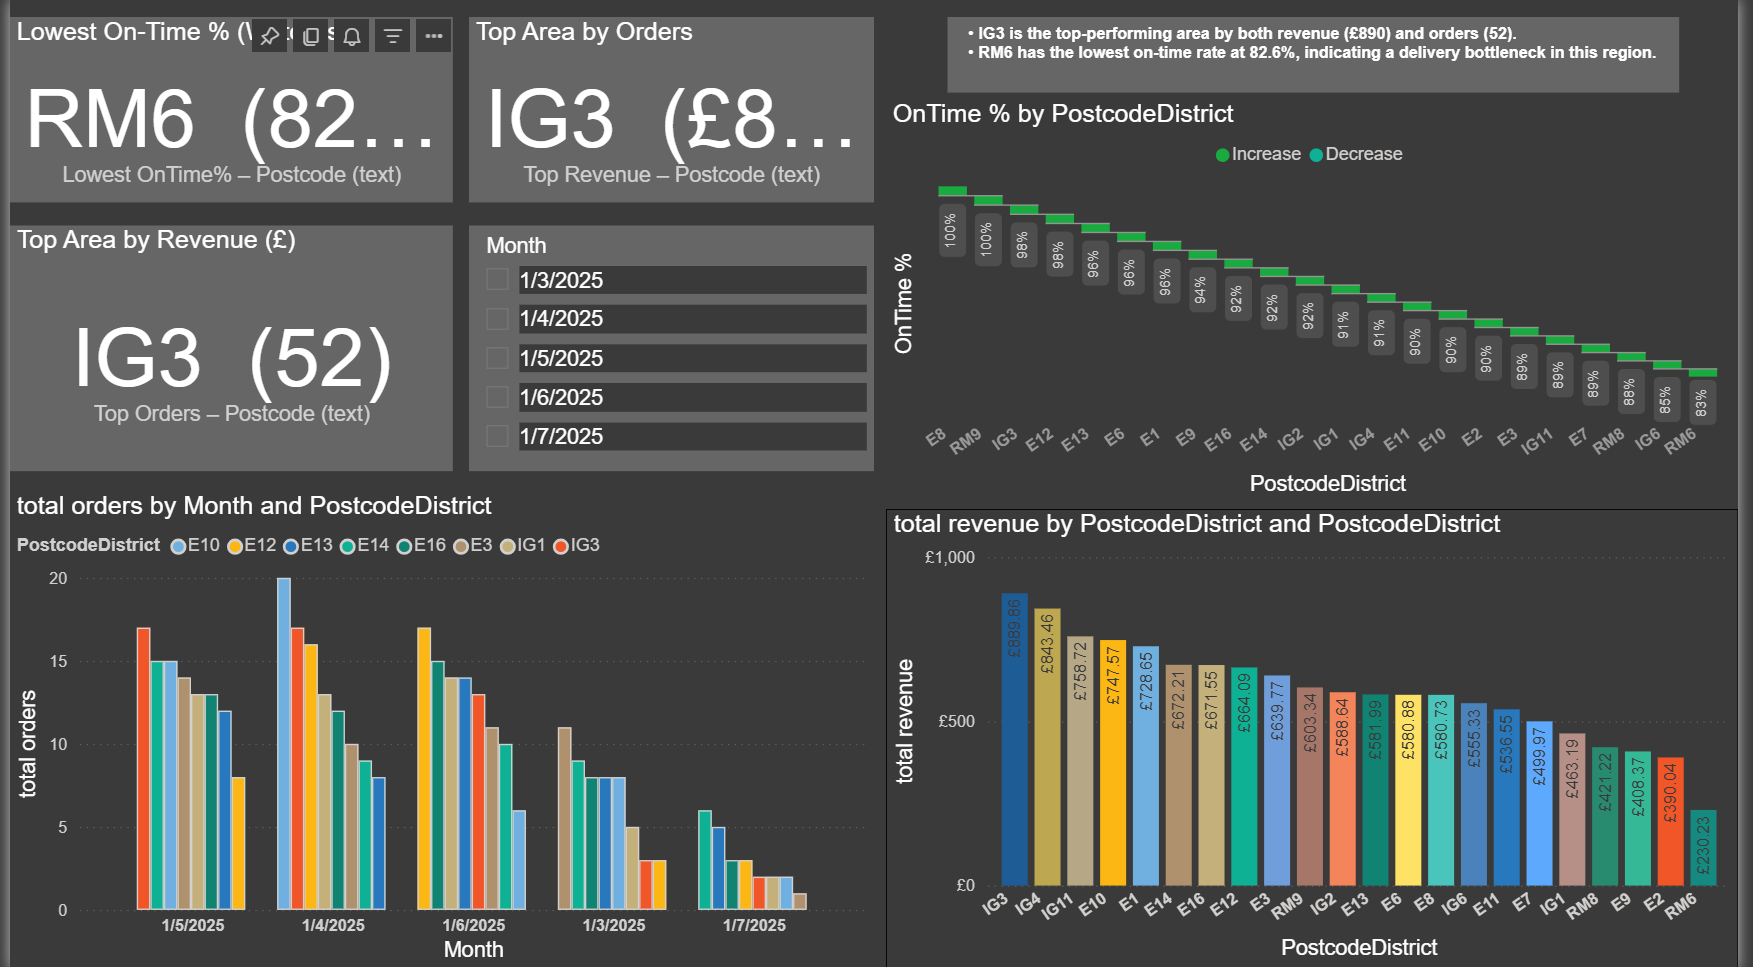

The dashboard page shown, as its layout file describes it:
{"tool":"powerbi","page":{"name":"geo insights","canvas":[1280,720],"ordinal":4},"visuals":[{"type":"clusteredColumnChart","fields":{"Category":["orders_clean.Month"],"Y":["orders_clean.total orders"],"Series":["orders_clean.PostcodeDistrict"]},"box":[0,364.3,639.2,353],"z":0},{"type":"columnChart","fields":{"Category":["orders_clean.PostcodeDistrict"],"Y":["orders_clean.total revenue"],"Series":["fruvibe_geo.PostcodeDistrict"]},"box":[648.9,377.4,631.1,339.9],"z":1000},{"type":"waterfallChart","fields":{"Category":["orders_clean.PostcodeDistrict"],"Y":["orders_clean.OnTime %"]},"box":[648.9,74.8,631.1,297.7],"z":2000},{"type":"card","title":"Lowest On-Time % (Watchlist)","fields":{"Values":["orders_clean.Lowest OnTime% – Postcode (text)"]},"box":[0,13.3,328,137.5],"z":3000},{"type":"card","title":"Top Area by Orders","fields":{"Values":["orders_clean.Top Revenue – Postcode (text)"]},"box":[339.6,13.3,299.8,137.5],"z":4000},{"type":"card","title":"Top Area by Revenue (£)","fields":{"Values":["orders_clean.Top Orders – Postcode (text)"]},"box":[0,167.3,328,182.2],"z":5000},{"type":"slicer","fields":{"Values":["orders_clean.Month"]},"box":[339.6,167.3,299.8,182.2],"z":6000},{"type":"textbox","box":[694.1,13.3,541.7,56.3],"z":7000}]}

Visuals, with their boxes on the page's 1280x720 design canvas (x1, y1, x2, y2). These are canvas units, not pixel positions in the 1753x967 screenshot, which may show the page scaled, cropped or inside an application window:
clusteredColumnChart - orders_clean.Month x orders_clean.total orders: bbox=[0, 364, 639, 717]
columnChart - orders_clean.PostcodeDistrict x orders_clean.total revenue: bbox=[649, 377, 1280, 717]
waterfallChart - orders_clean.PostcodeDistrict x orders_clean.OnTime %: bbox=[649, 75, 1280, 372]
"Lowest On-Time % (Watchlist)" card: bbox=[0, 13, 328, 151]
"Top Area by Orders" card: bbox=[340, 13, 639, 151]
"Top Area by Revenue (£)" card: bbox=[0, 167, 328, 350]
slicer - orders_clean.Month: bbox=[340, 167, 639, 350]
textbox: bbox=[694, 13, 1236, 70]
